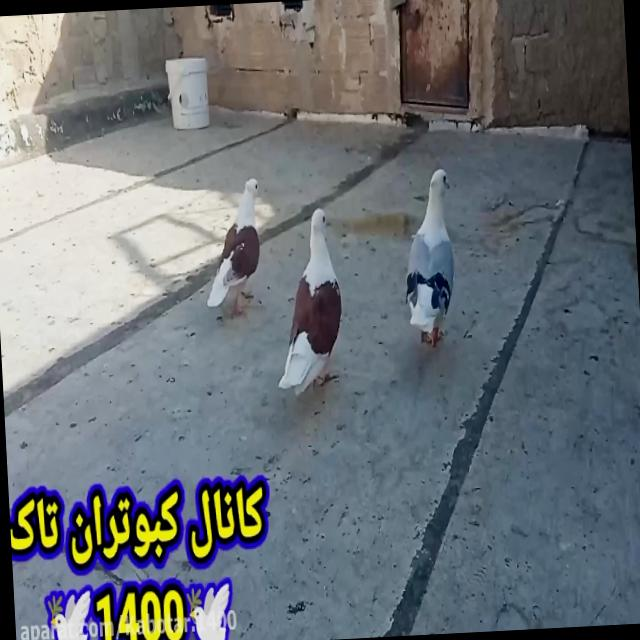bird: (268, 200, 349, 401), (396, 157, 464, 350), (198, 168, 270, 322)
